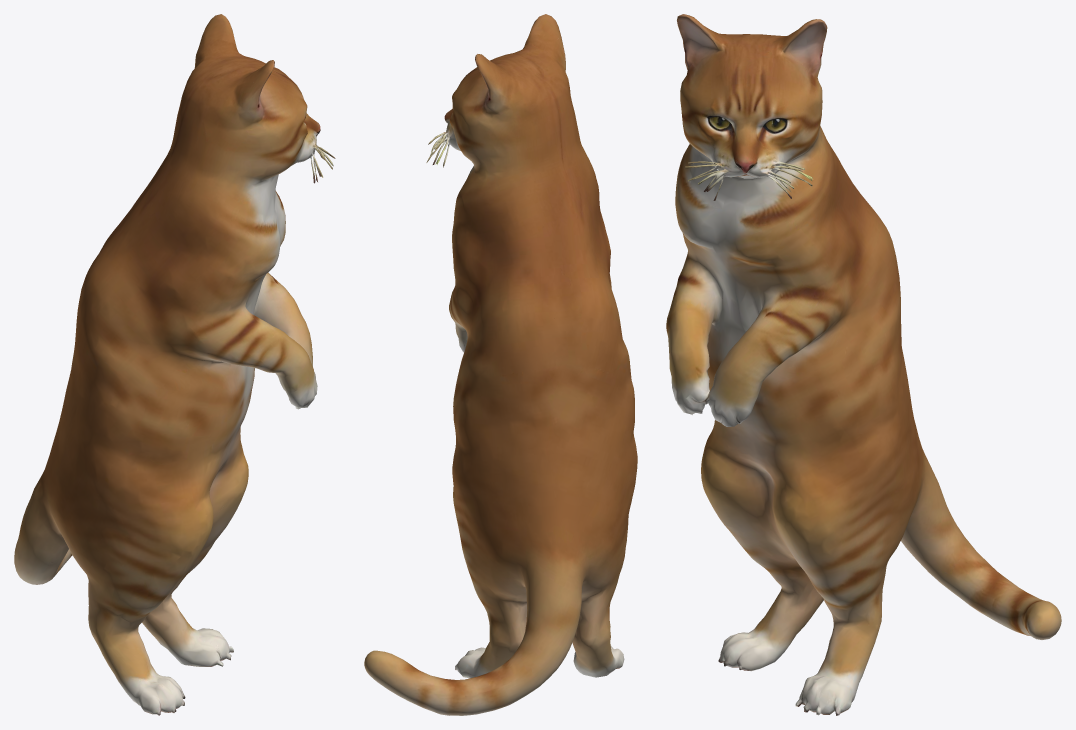
The model's file is supporter-032.glb.
3 views of the same model, side by side, from view 1: azimuth 30°, elevation 25°; view 2: azimuth 150°, elevation 25°; view 3: azimuth 270°, elevation 25° (orthographic). The views are drawn at different scales.
Visible parts, largest first — view 1: tripo_node_ac64c49c-819b-4bb2-8b71-5bbfe2ac74e5; view 2: tripo_node_ac64c49c-819b-4bb2-8b71-5bbfe2ac74e5; view 3: tripo_node_ac64c49c-819b-4bb2-8b71-5bbfe2ac74e5.
Part boxes in pixels (x1=…): tripo_node_ac64c49c-819b-4bb2-8b71-5bbfe2ac74e5: x1=14, y1=14, x2=335, y2=715; tripo_node_ac64c49c-819b-4bb2-8b71-5bbfe2ac74e5: x1=364, y1=14, x2=637, y2=715; tripo_node_ac64c49c-819b-4bb2-8b71-5bbfe2ac74e5: x1=666, y1=14, x2=1061, y2=715.
Size of the model in its own units: 0.1576 by 0.45 by 0.2325.
Materials: 1 (1 with a texture image).
